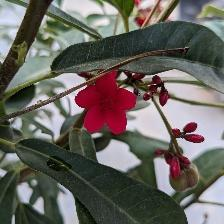jatropha: (76, 72, 140, 136)
